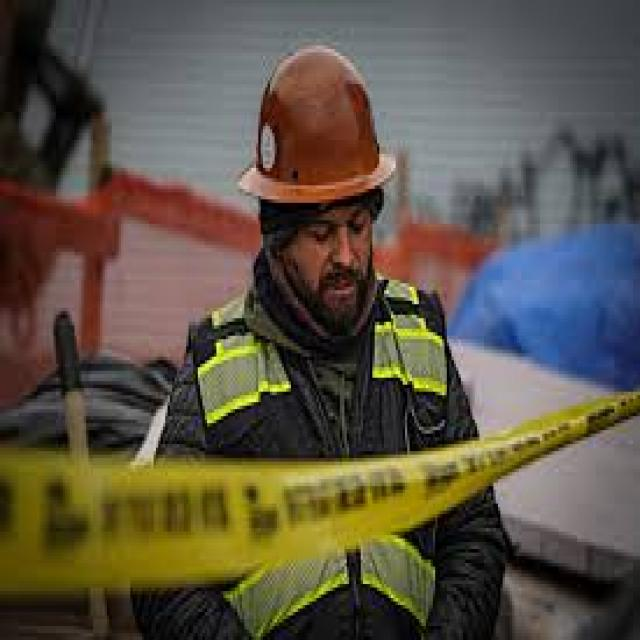Reflective-Jacket: (179, 273, 475, 472)
Safety-Helmet: (233, 35, 398, 217)
